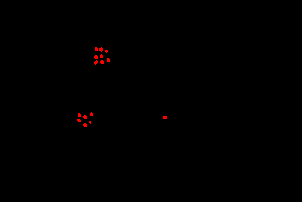Target: (99, 47, 103, 52), (94, 60, 98, 65), (94, 55, 98, 59), (100, 60, 104, 64), (83, 115, 87, 119), (83, 123, 87, 127), (95, 47, 98, 51), (100, 54, 103, 58), (107, 58, 110, 62), (90, 112, 93, 116), (78, 113, 81, 117), (163, 116, 167, 119), (77, 119, 81, 122), (105, 50, 108, 53), (89, 121, 91, 124)
